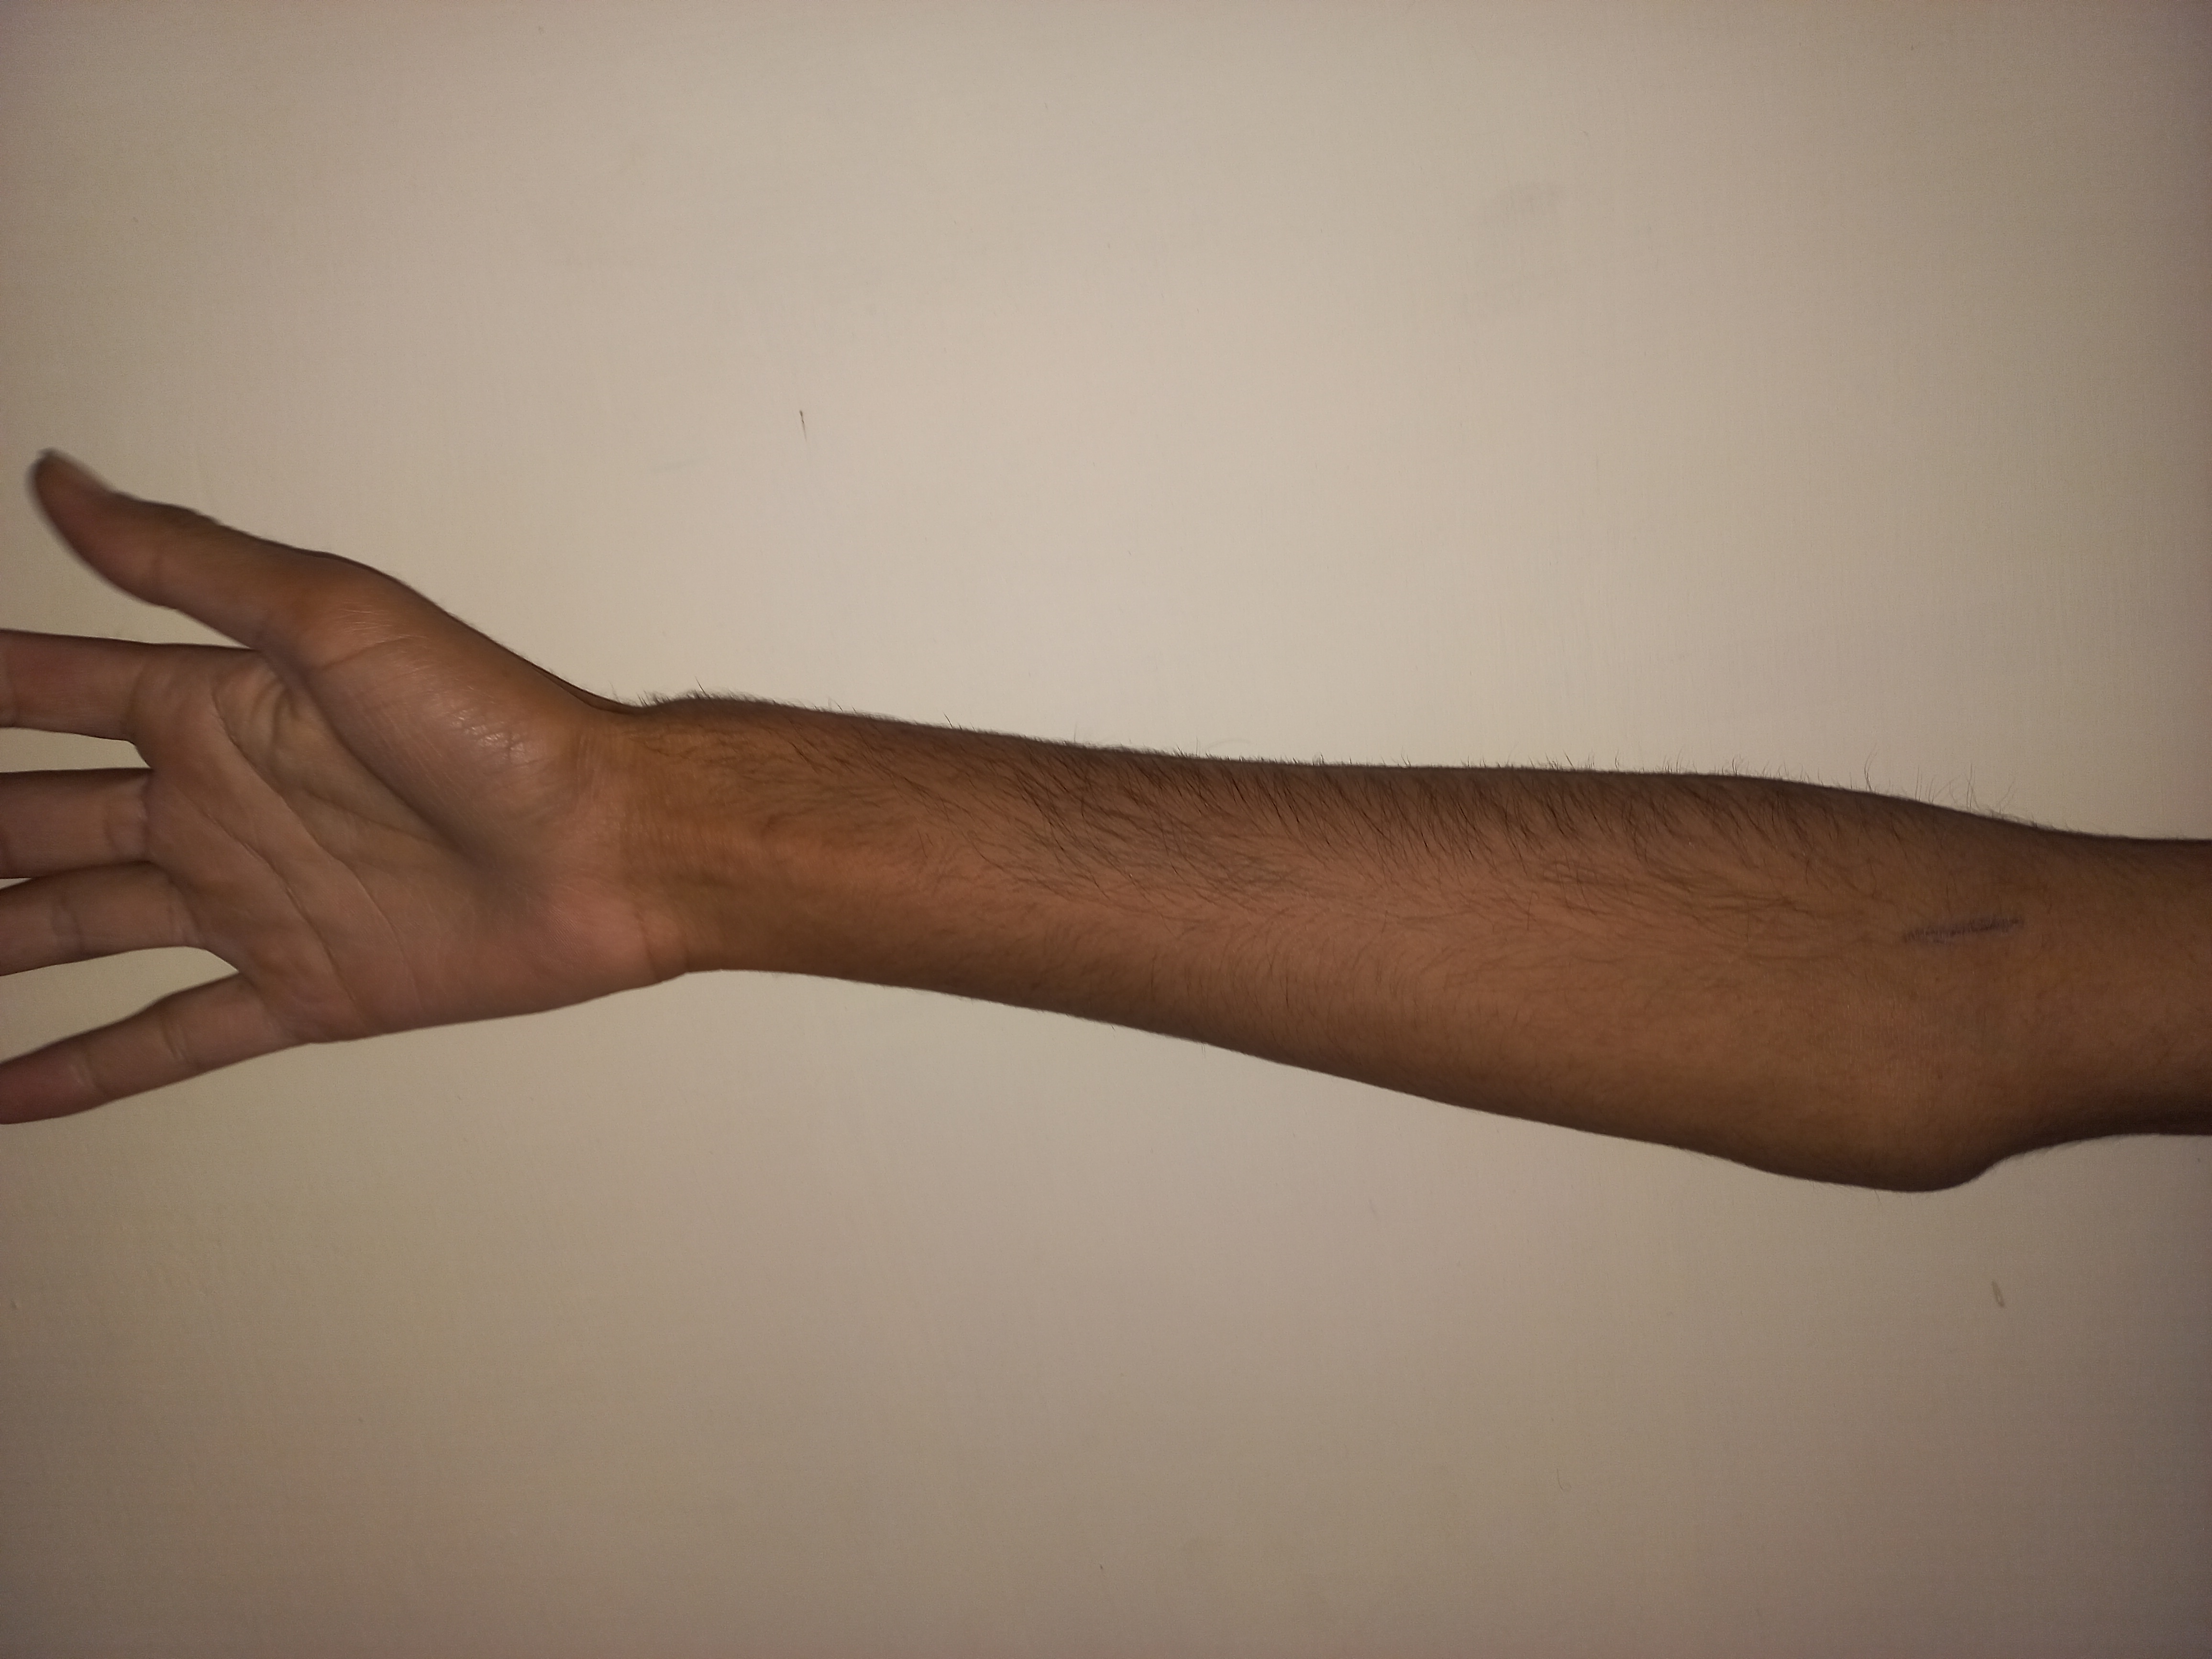vein: (1883, 892, 2040, 972)
